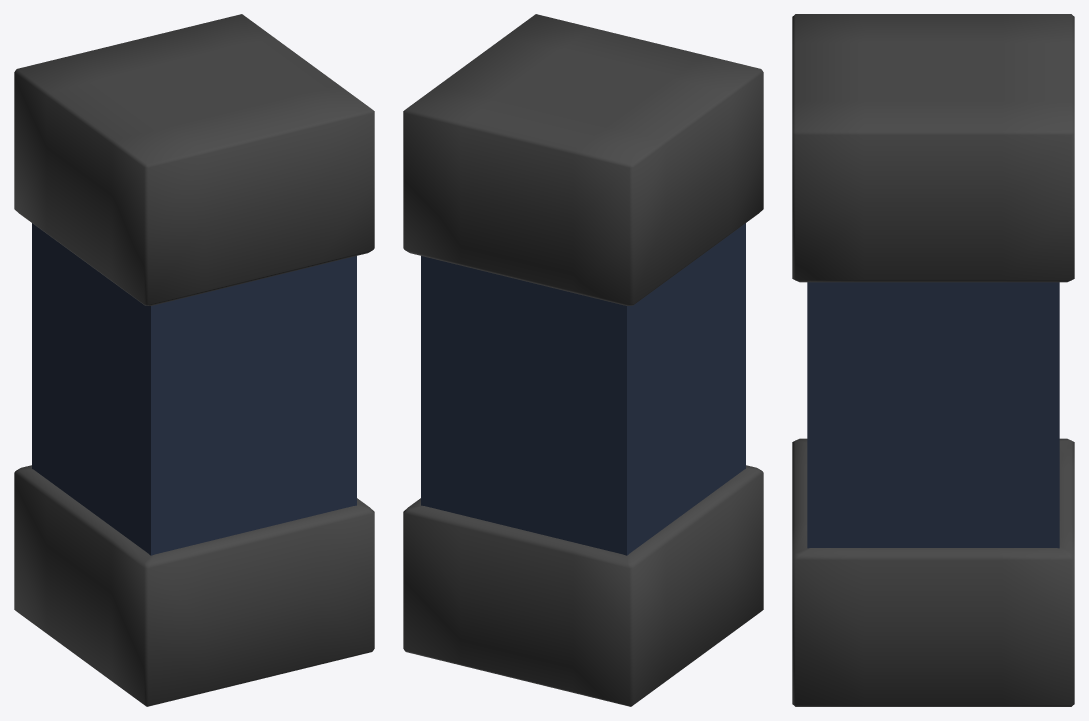
File: BossSwitch.fbx
3 renders of one model, left to right at view 1: azimuth 30°, elevation 25°; view 2: azimuth 150°, elevation 25°; view 3: azimuth 270°, elevation 25°, orthographic. The views are drawn at different scales.
Parts seen in each view (by area): view 1: Switch, Glass; view 2: Switch, Glass; view 3: Switch, Glass.
Part boxes in pixels (x1,y1,x2,y2): Switch: (14, 14, 374, 706); Glass: (32, 223, 356, 555); Switch: (403, 14, 763, 706); Glass: (421, 223, 745, 555); Switch: (792, 14, 1074, 706); Glass: (807, 282, 1059, 548).
Size of the model in its own units: 350 by 789 by 350.
